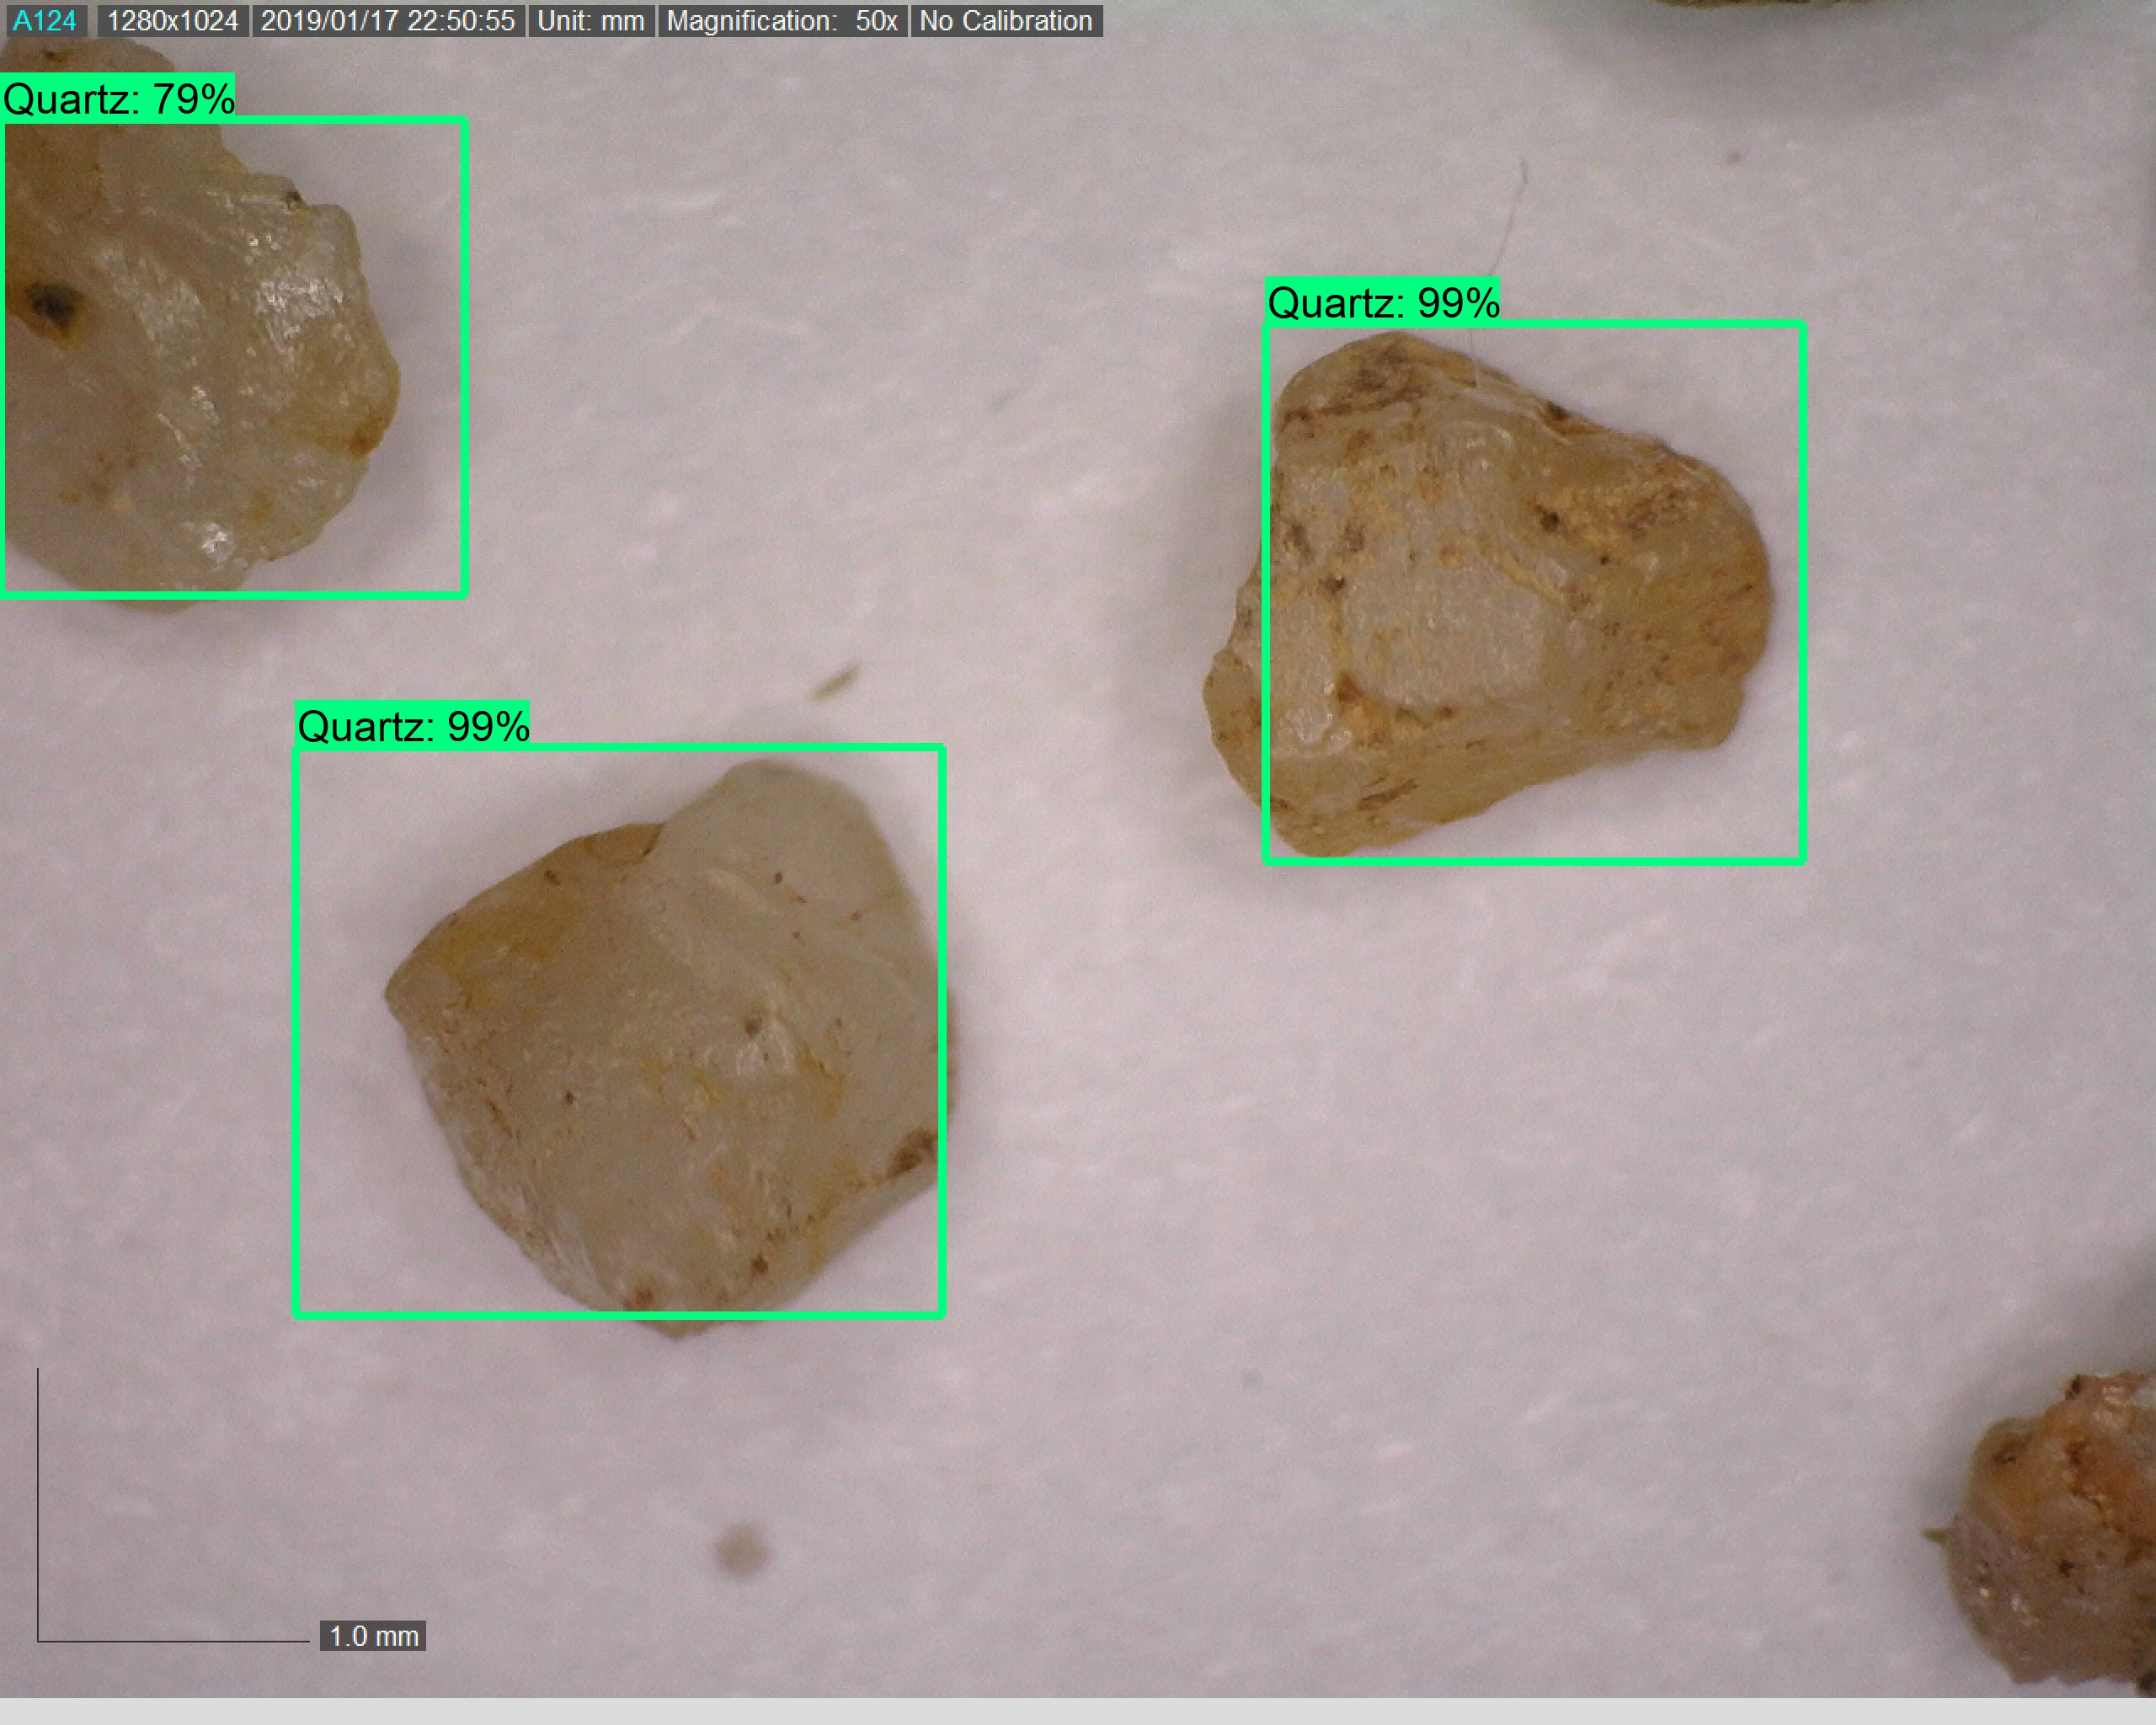Quartz: (310, 745, 1005, 1350), (1213, 349, 1813, 866), (0, 37, 422, 628)
